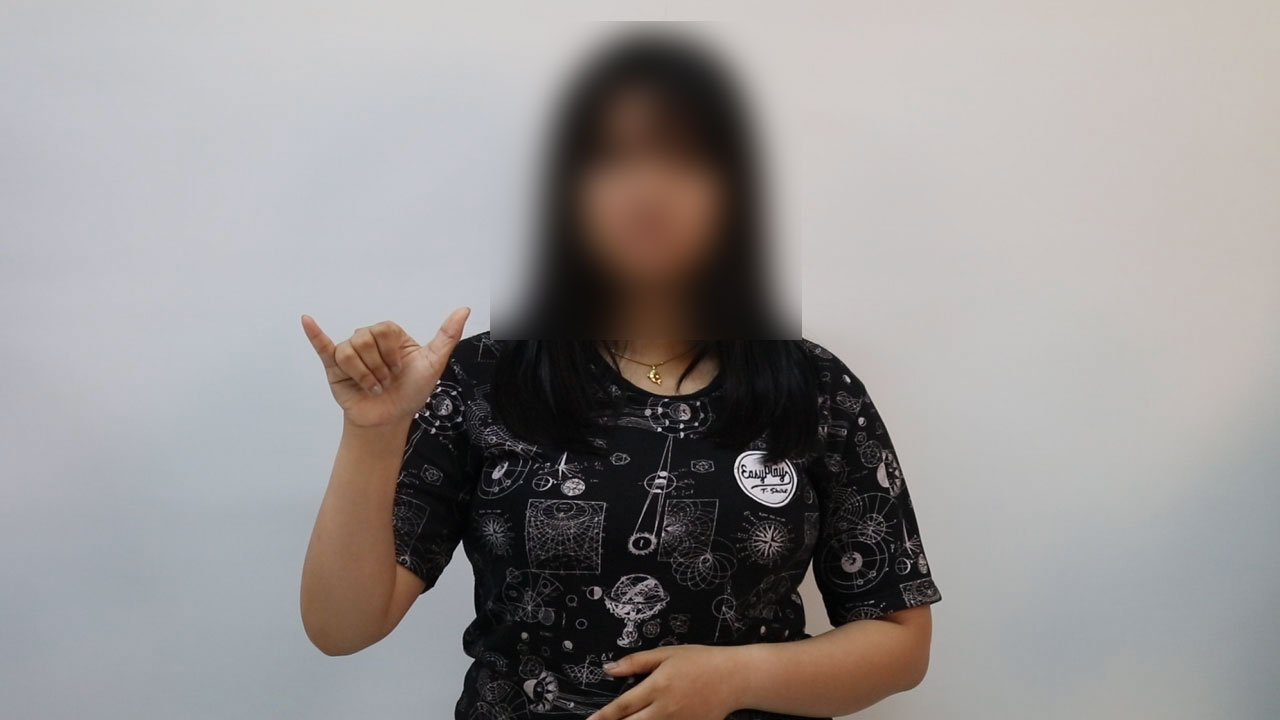yor: (291, 305, 489, 439)
